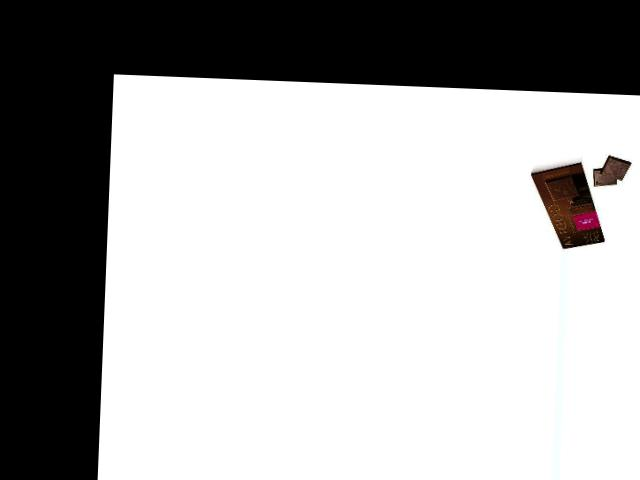chocolate: (527, 159, 609, 251)
